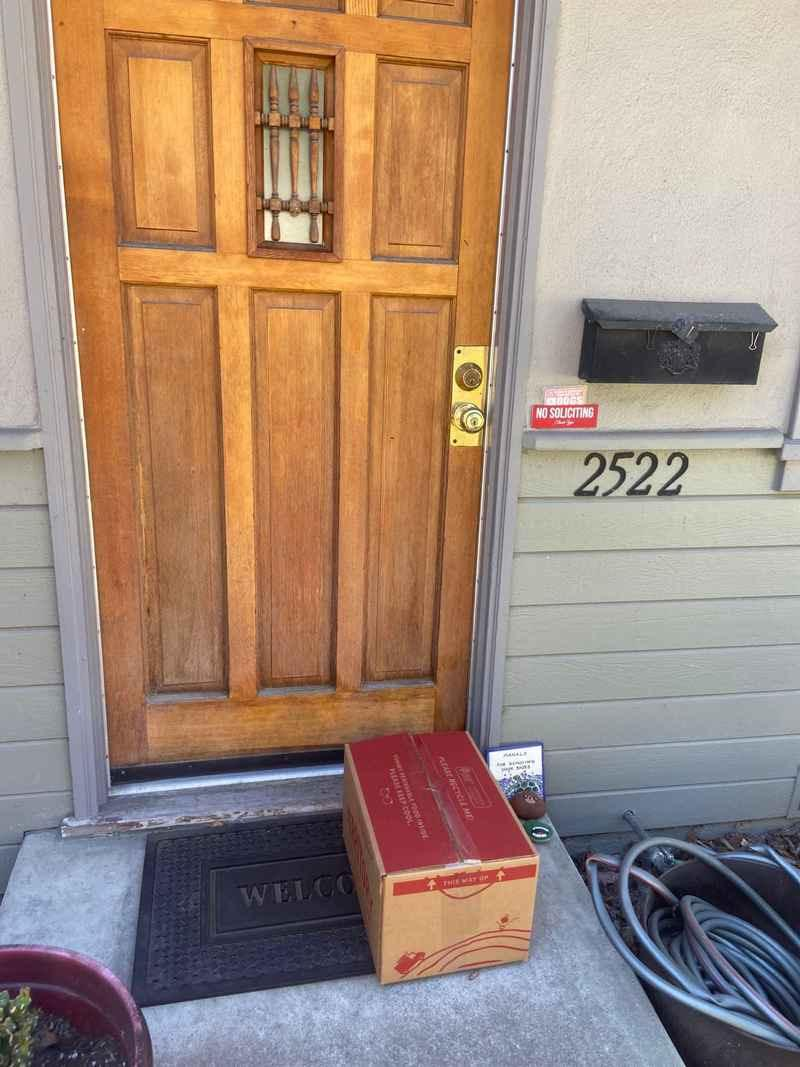package: (329, 725, 551, 992)
